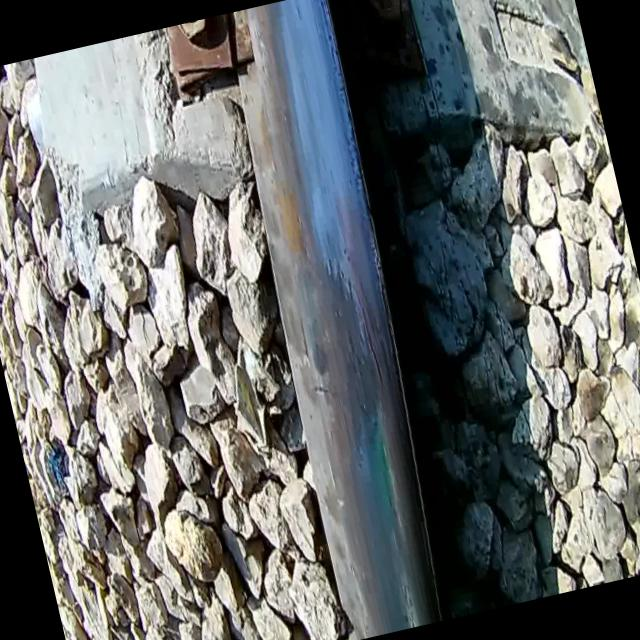Cracks: (327, 243, 394, 412)
Flakings: (302, 0, 425, 397)
Squats: (284, 234, 404, 481), (324, 458, 424, 638)
